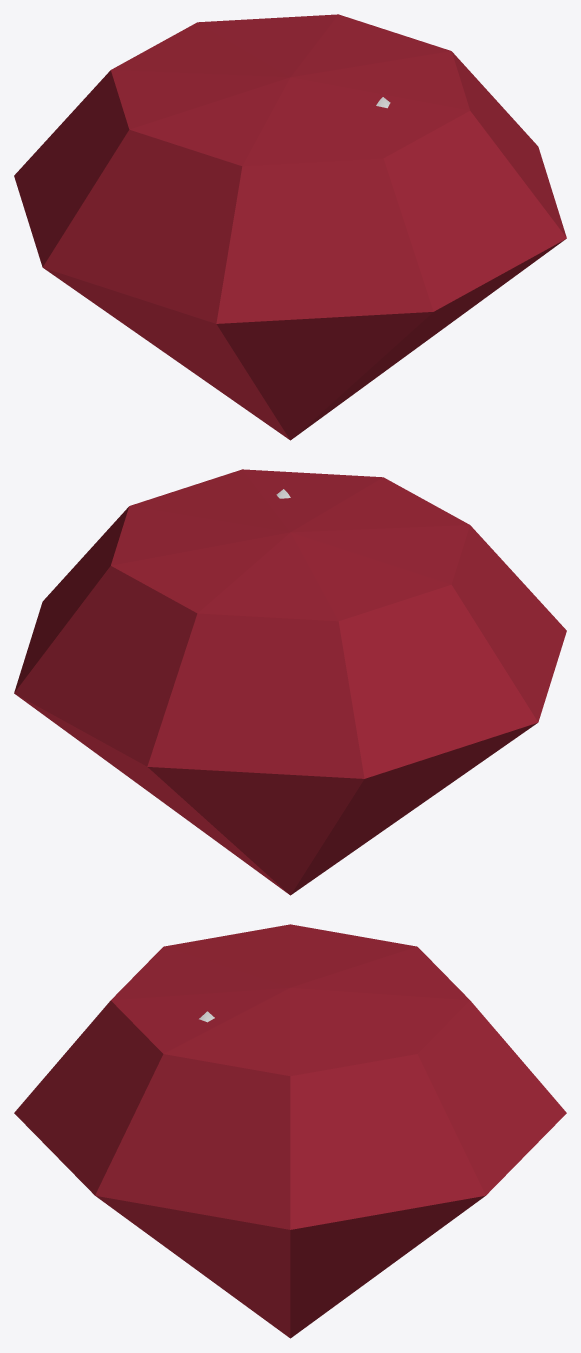
File: col_stone_garnet.gltf
3 views of the same model, one above another, from view 1: azimuth 30°, elevation 25°; view 2: azimuth 150°, elevation 25°; view 3: azimuth 270°, elevation 25° (orthographic). The views are drawn at different scales.
Parts seen in each view (by area): view 1: col_stone_garnet; view 2: col_stone_garnet; view 3: col_stone_garnet.
Boxes of the visible parts, left/top/right/bottom form: col_stone_garnet: left=14, top=14, right=566, bottom=440; col_stone_garnet: left=14, top=469, right=566, bottom=895; col_stone_garnet: left=14, top=924, right=566, bottom=1338.
Size of what is drawn, in the model's own units: 0.07 by 0.049 by 0.07.
